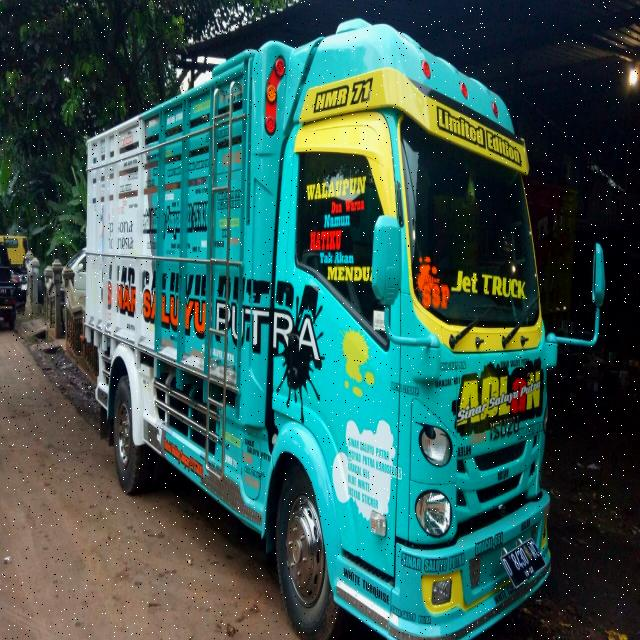truck: (83, 10, 603, 639)
